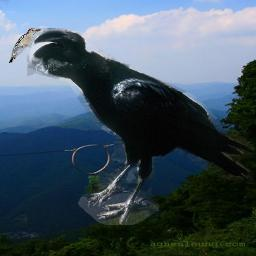Crow: (27, 28, 254, 225)
Woodpecker: (9, 28, 41, 63)
